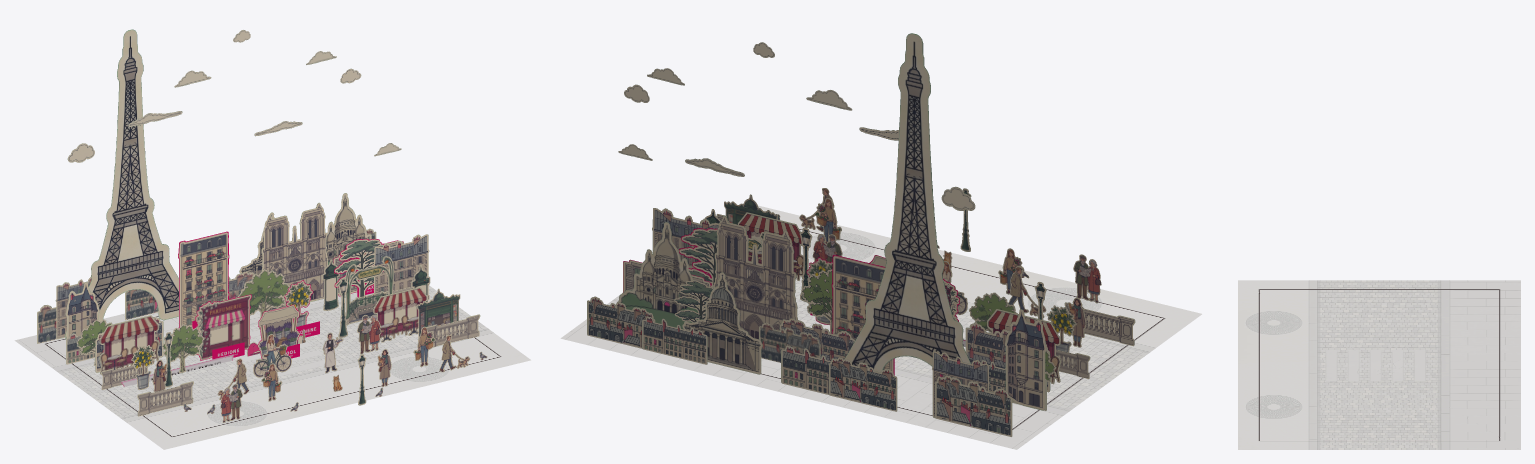
The model's file is paris-web.glb.
3 views of the same model, side by side, from view 1: azimuth 30°, elevation 25°; view 2: azimuth 150°, elevation 25°; view 3: azimuth 270°, elevation 25° (orthographic). The views are drawn at different scales.
Parts seen in each view (by area): view 1: card, far-01_03, mid-02_23, mid-01_21, near-01_33, near-05_32, mid-04_26, near-05_43, near-04_37, far-02_07, mid-08_22, near-02_34 (+18 smaller); view 2: card, far-01_03, mid-02_23, far-02_07, far-03_06, far-04_01, mid-06_19, mid-01_21, far-04_15, far-04_08, far-05_09, far-05_04 (+18 smaller); view 3: card.
Part boxes in pixels (x1,y1,x2,y2): card: (14, 285, 530, 449); far-01_03: (65, 29, 178, 339); mid-02_23: (261, 202, 327, 310); mid-01_21: (178, 231, 229, 328); near-01_33: (195, 294, 251, 360); near-05_32: (99, 315, 159, 374); mid-04_26: (373, 234, 429, 293); near-05_43: (373, 287, 427, 342); near-04_37: (345, 256, 394, 325); far-02_07: (326, 193, 371, 265); mid-08_22: (238, 269, 289, 329); near-02_34: (257, 304, 300, 358); card: (560, 205, 1201, 449); far-01_03: (844, 33, 970, 372); mid-02_23: (713, 215, 797, 339); far-02_07: (618, 222, 698, 328); far-03_06: (682, 272, 762, 374); far-04_01: (935, 375, 1012, 436); mid-06_19: (1005, 309, 1046, 410); mid-01_21: (831, 254, 894, 375); far-04_15: (829, 357, 897, 411); far-04_08: (587, 296, 655, 348); far-05_09: (642, 316, 707, 364); far-05_04: (781, 345, 830, 394); card: (1238, 280, 1520, 449).
Bounding box in the file's own units: 0.32 × 0.2622 × 0.2311.
Materials: 74 (74 with a texture image).
